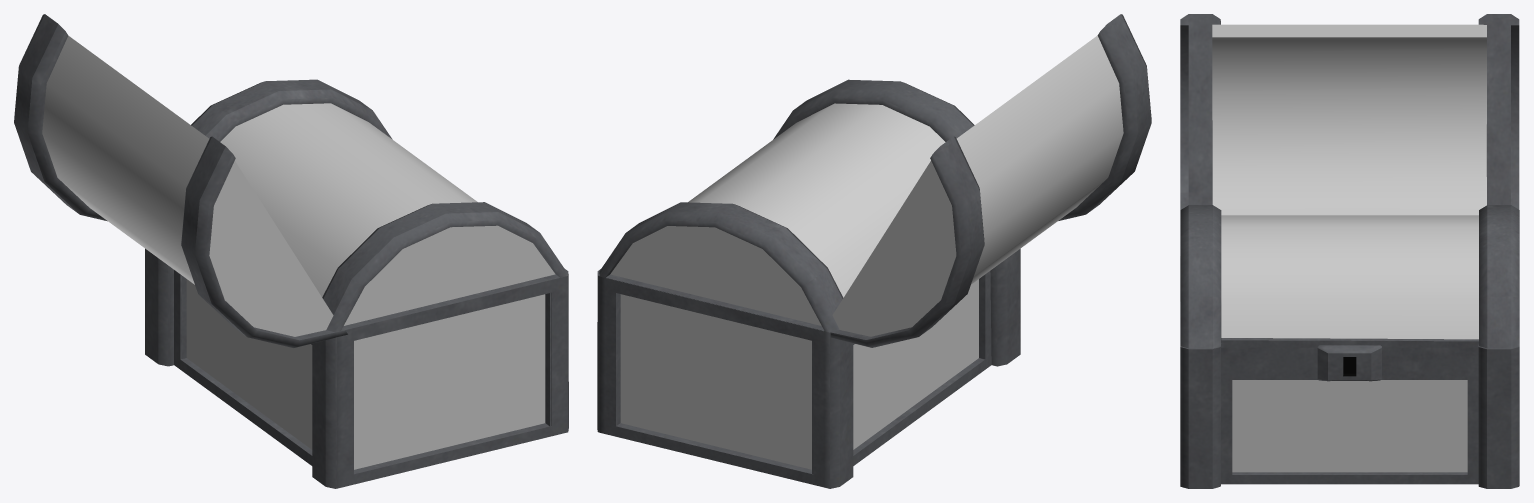
Rendered from chest.fbx.
3 views of the same model, side by side, from view 1: azimuth 30°, elevation 25°; view 2: azimuth 150°, elevation 25°; view 3: azimuth 270°, elevation 25° (orthographic). The views are drawn at different scales.
Visible parts, largest first — view 1: Chest Open, Chest 1; view 2: Chest 1, Chest Open; view 3: Chest Open, Chest 1.
Boxes of the visible parts, x1,y1,x2,y2 form: Chest Open: [14, 14, 568, 488]; Chest 1: [145, 79, 566, 488]; Chest 1: [599, 79, 1020, 488]; Chest Open: [597, 14, 1151, 474]; Chest Open: [1180, 14, 1519, 488]; Chest 1: [1180, 205, 1519, 485].
Size of what is drawn, in the model's own units: 128 by 135 by 145.
